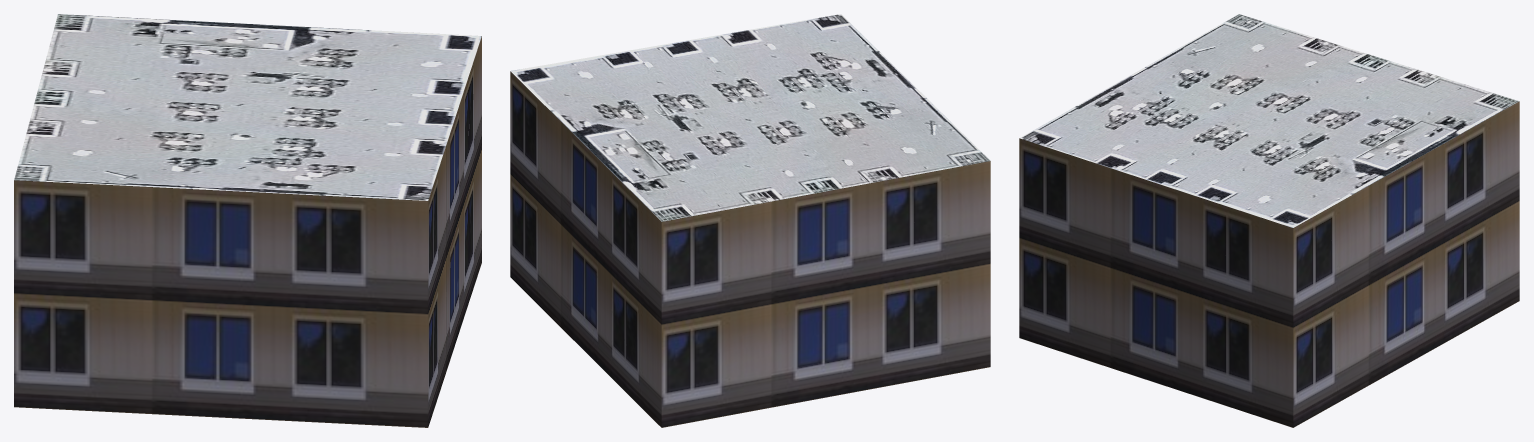
Rendered from ResTex__4825.fbx.
3 views of the same model, side by side, from view 1: azimuth 30°, elevation 25°; view 2: azimuth 150°, elevation 25°; view 3: azimuth 270°, elevation 25° (orthographic). The views are drawn at different scales.
Visible parts, largest first — view 1: CityEngineMaterial_5_m, CityEngineMaterial_8_m; view 2: CityEngineMaterial_5_m, CityEngineMaterial_8_m; view 3: CityEngineMaterial_5_m, CityEngineMaterial_8_m.
Boxes of the visible parts, left/top/right/bottom form: CityEngineMaterial_5_m: left=14, top=36, right=481, bottom=427; CityEngineMaterial_8_m: left=14, top=14, right=481, bottom=200; CityEngineMaterial_5_m: left=510, top=71, right=990, bottom=427; CityEngineMaterial_8_m: left=510, top=14, right=990, bottom=221; CityEngineMaterial_5_m: left=1019, top=101, right=1519, bottom=427; CityEngineMaterial_8_m: left=1020, top=14, right=1519, bottom=227.
Size of the model in its own units: 13.79 by 6 by 13.61.
2 materials, 2 textured.
